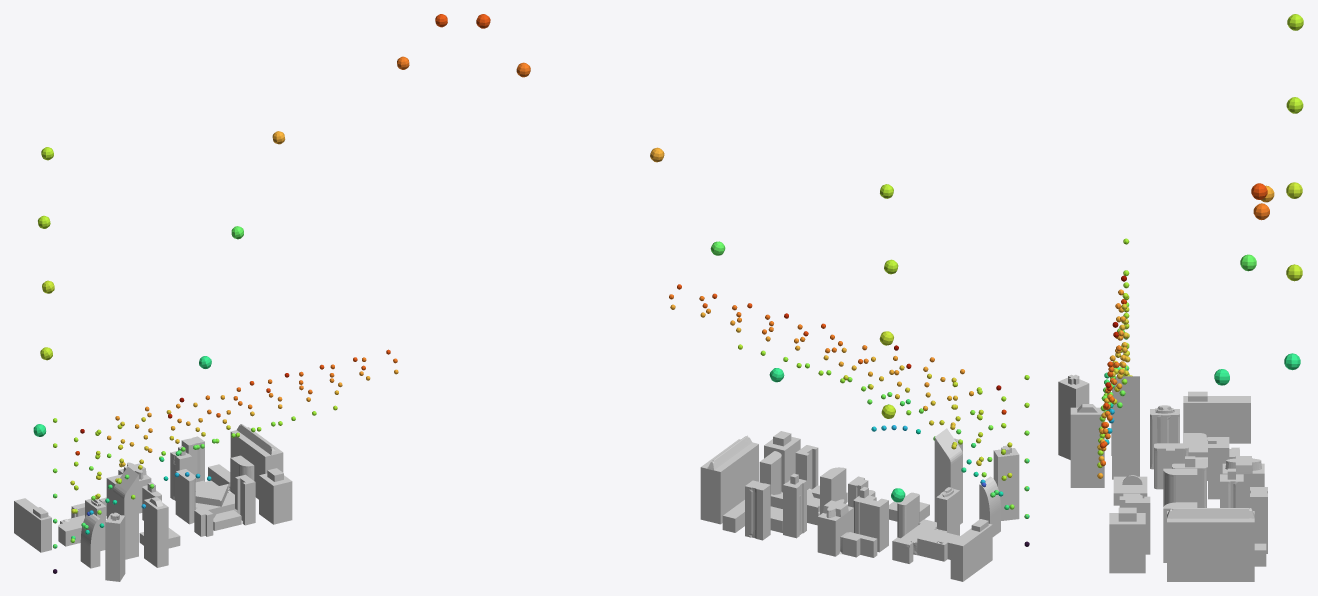
Rendered from wab_partialAnim6.glb.
The picture shows the model from 3 angles, left to right: view 1: azimuth 30°, elevation 25°; view 2: azimuth 150°, elevation 25°; view 3: azimuth 270°, elevation 25°; orthographic projection. The views are drawn at different scales.
Visible parts, largest first — view 1: mesh0, Renderer Node; view 2: mesh0, Renderer Node; view 3: mesh0, Renderer Node, Renderer Node.010, Renderer Node.004.
Part boxes in pixels (<box>): mesh0: <box>14,424,292,581</box>; Renderer Node: <box>33,14,447,436</box>; mesh0: <box>700,428,1019,581</box>; Renderer Node: <box>476,14,905,502</box>; mesh0: <box>1058,374,1267,581</box>; Renderer Node: <box>1214,14,1303,385</box>; Renderer Node.010: <box>1097,284,1129,478</box>; Renderer Node.004: <box>1097,307,1132,468</box>.
Size of the model in its own units: 3.12 by 2.76 by 1.18.
Materials: 17 (16 with a texture image).
